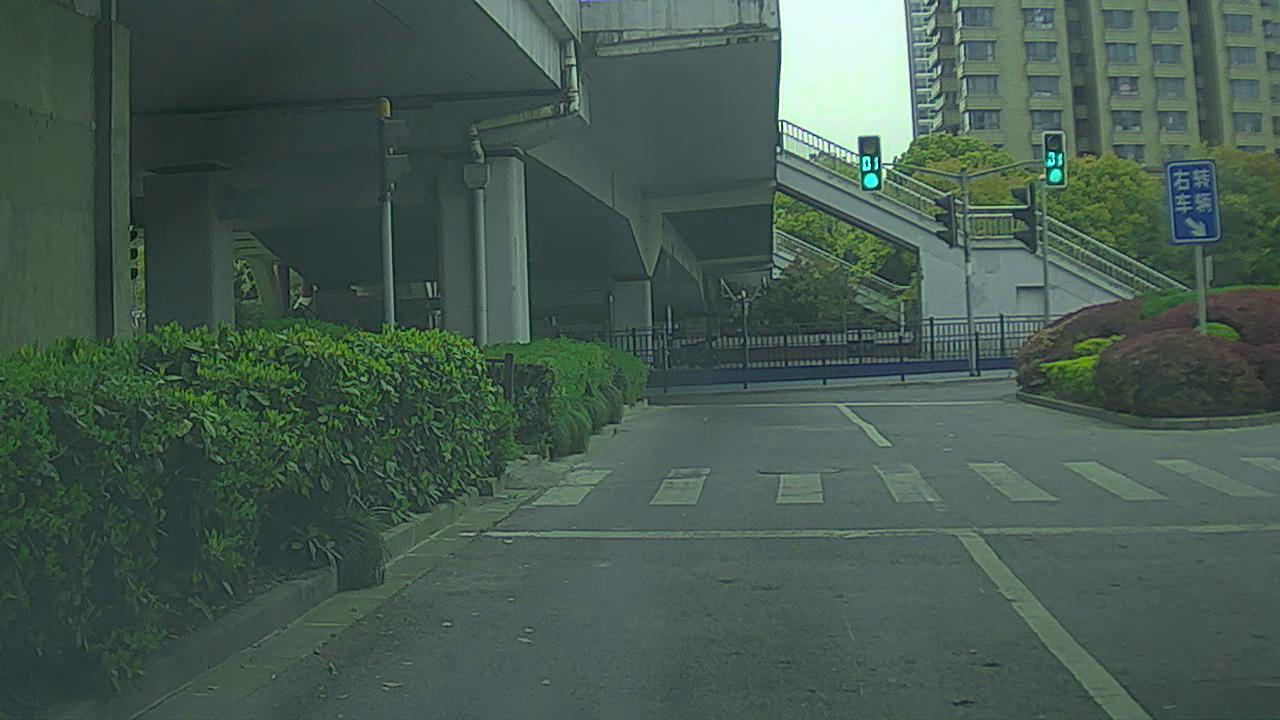traffic_light: (859, 134, 888, 197), (1046, 128, 1068, 185)
